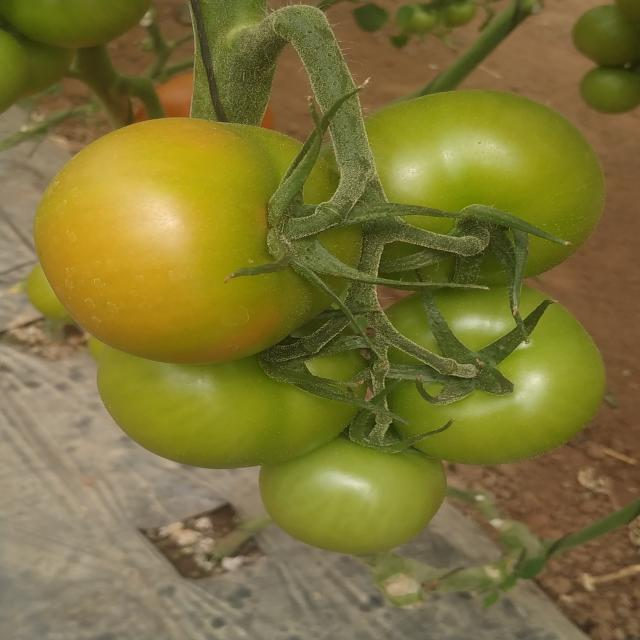Unripe Tomato: (44, 119, 332, 366), (346, 90, 604, 288), (366, 293, 612, 454), (103, 370, 354, 469), (267, 444, 453, 556), (3, 0, 146, 54)
